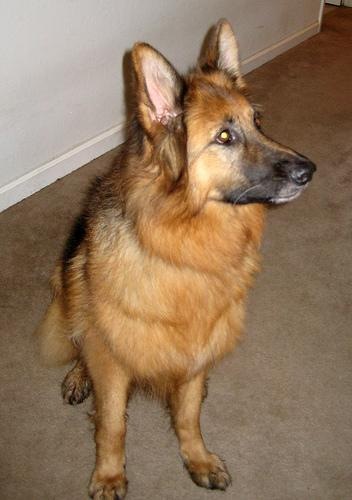German_shepherd: (36, 12, 315, 498)
